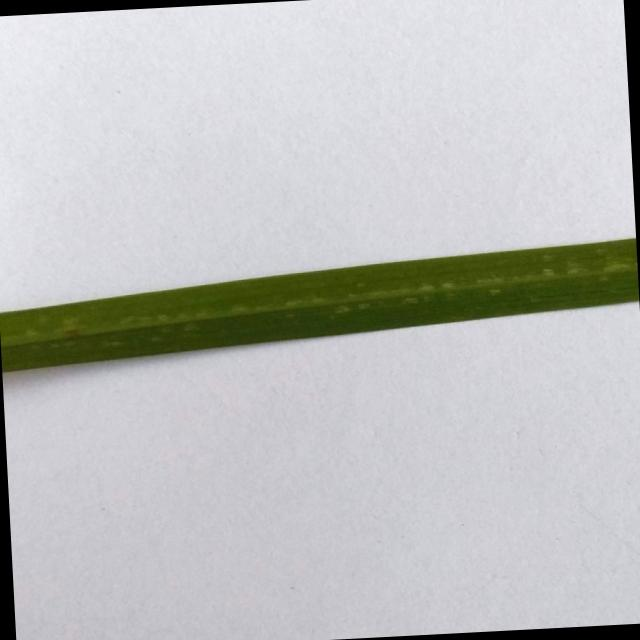Rice_Healthy: (0, 239, 639, 372)
